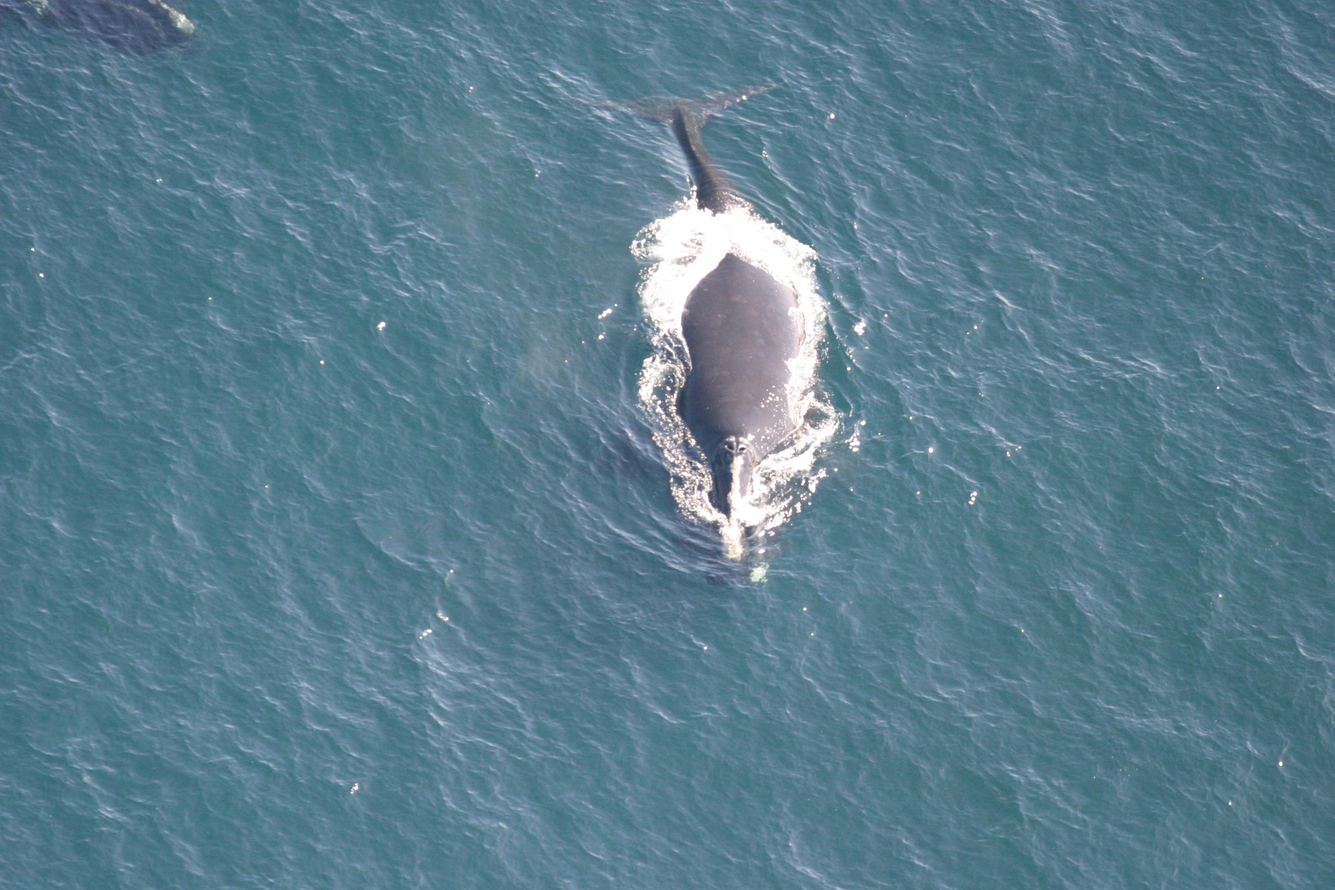whale: (549, 71, 828, 595), (0, 0, 214, 56)
